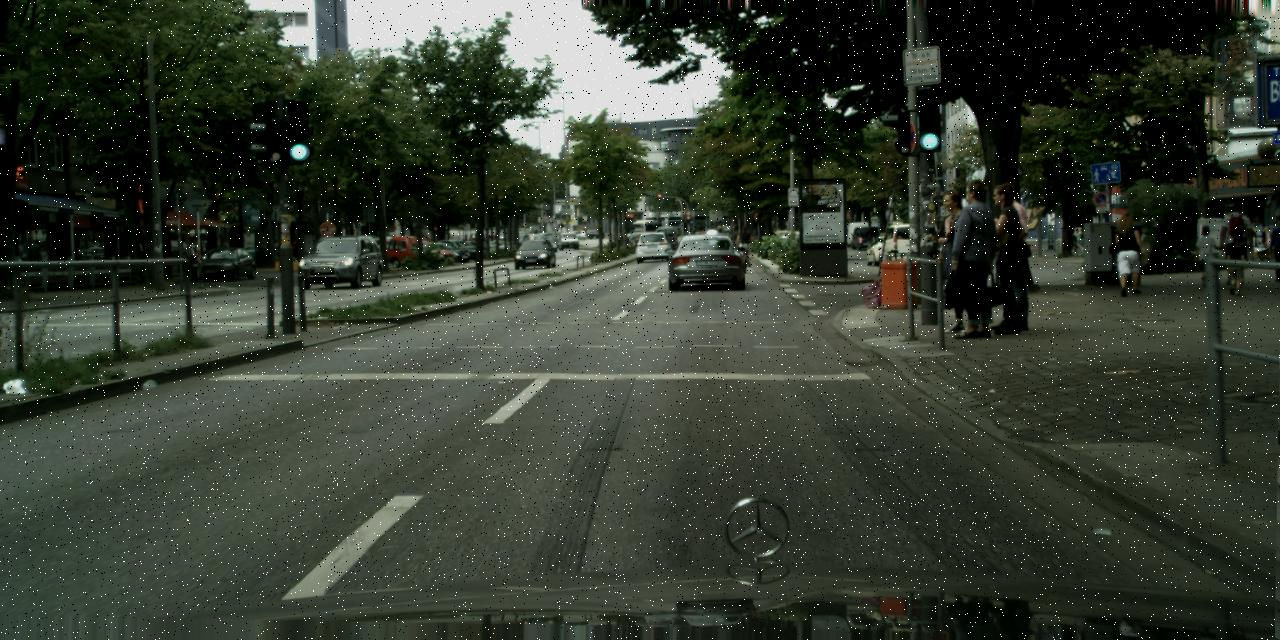ped: (946, 178, 1012, 338), (983, 182, 1043, 330), (976, 184, 1036, 332), (931, 188, 988, 329), (1112, 213, 1144, 294), (1219, 204, 1251, 285), (1194, 224, 1218, 286), (1226, 236, 1250, 295), (1265, 214, 1279, 282), (738, 226, 751, 260), (1071, 226, 1082, 252), (462, 232, 477, 240), (629, 232, 633, 243)
